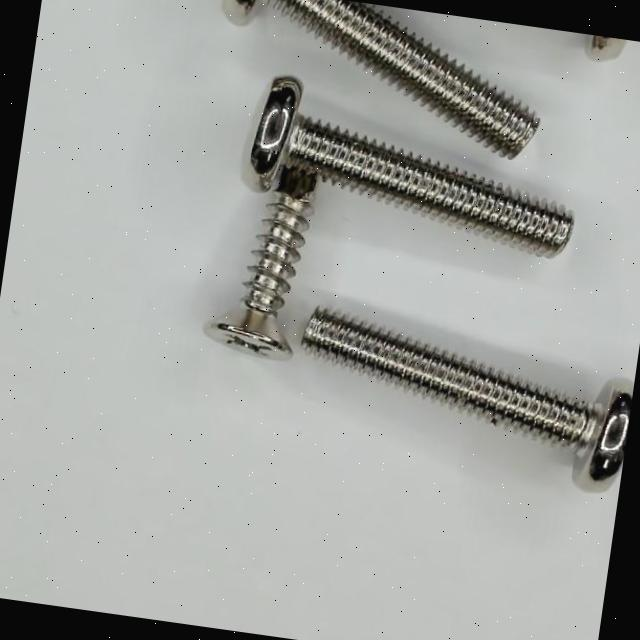Screw: (302, 311, 634, 493), (250, 77, 575, 258), (222, 0, 540, 156), (204, 168, 317, 361)
